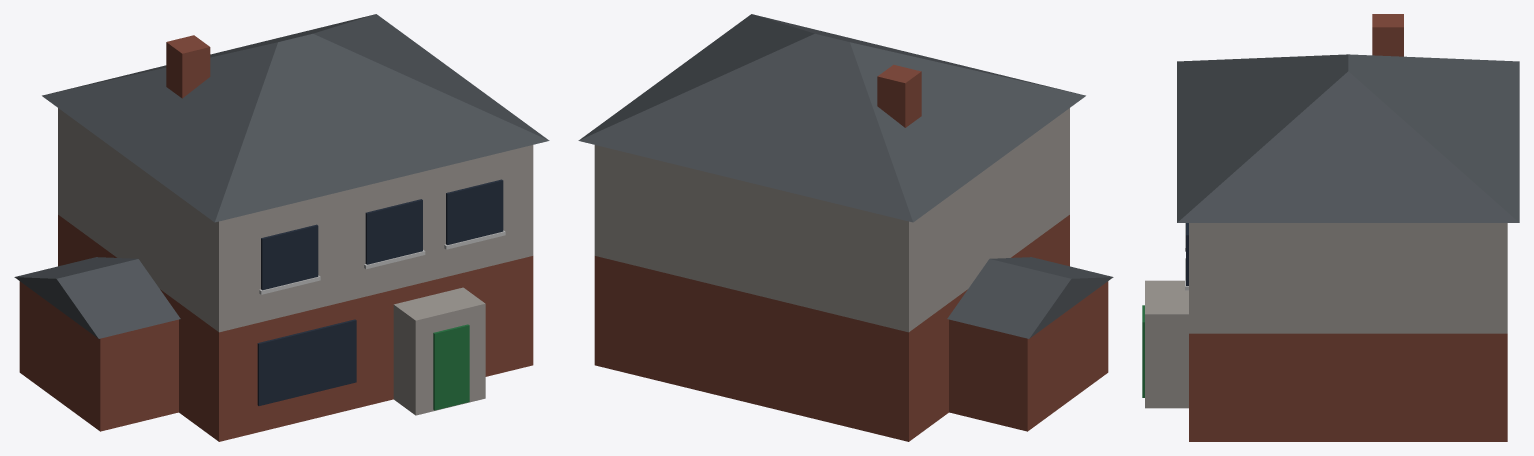
The model's file is building_london_s3_council_detached.glb.
The picture shows the model from 3 angles, left to right: view 1: azimuth 30°, elevation 25°; view 2: azimuth 150°, elevation 25°; view 3: azimuth 270°, elevation 25°; orthographic projection.
Visible parts, largest first — view 1: building_london_s3_council_detached; view 2: building_london_s3_council_detached; view 3: building_london_s3_council_detached.
Boxes of the visible parts, bbox=[...] form: building_london_s3_council_detached: bbox=[14, 14, 549, 441]; building_london_s3_council_detached: bbox=[578, 14, 1113, 441]; building_london_s3_council_detached: bbox=[1142, 14, 1519, 441].
Size of the model in its own units: 11.65 by 8.4 by 9.47.
Materials: 1 (1 with a texture image).
